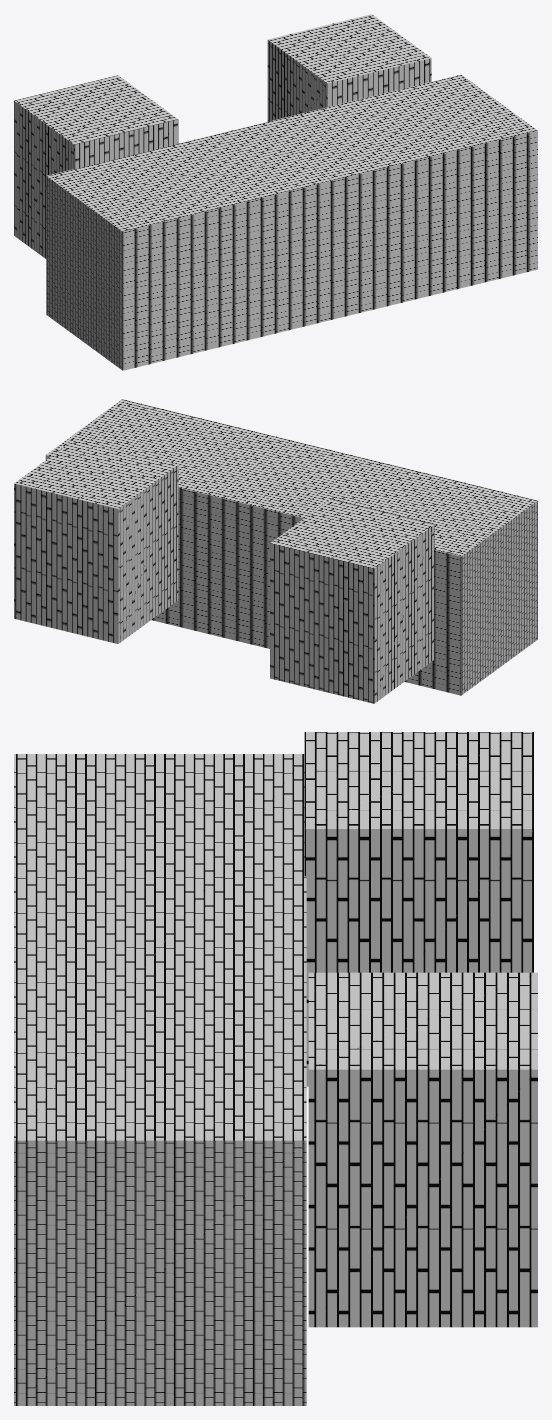
Rendered from Wall.gltf.
The picture shows the model from 3 angles, top to bottom: view 1: azimuth 30°, elevation 25°; view 2: azimuth 150°, elevation 25°; view 3: azimuth 270°, elevation 25°; orthographic projection. The views are drawn at different scales.
Parts seen in each view (by area): view 1: 立方体.001; view 2: 立方体.001; view 3: 立方体.001.
Part boxes in pixels (x1=…): 立方体.001: x1=14, y1=14, x2=537, y2=370; 立方体.001: x1=14, y1=399, x2=537, y2=703; 立方体.001: x1=14, y1=732, x2=537, y2=1405.
Bounding box in the file's own units: 26.97 × 10.17 × 15.44.
1 material, 1 textured.
